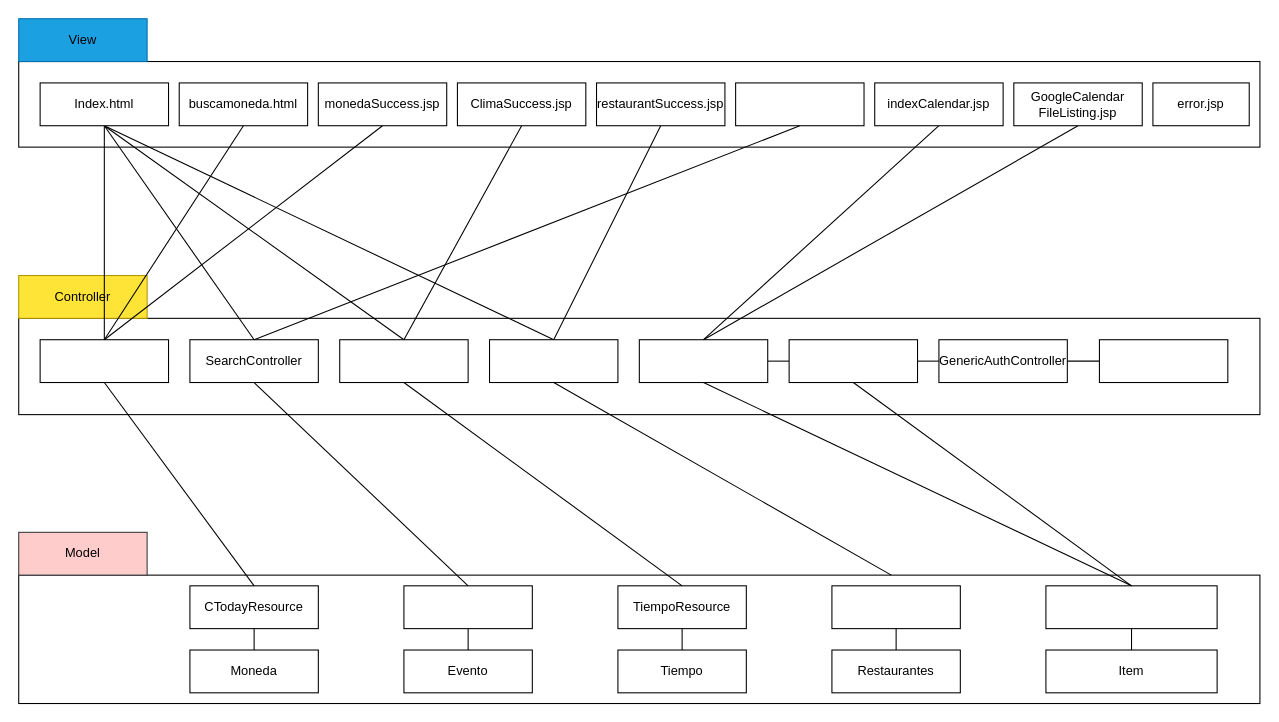
The diagram is 1279 pixels wide and 722 high, and some of its shapes have lost their labels. The box of each missing label's shape, as (x1, y1, x2, y2) in pixels:
EventSuccess.jsp: (735, 82, 864, 126)
GoogelCalendarResource: (1045, 585, 1217, 629)
GoogleCalendar EventNewController: (788, 339, 918, 383)
GoogleCalendat FileListController: (638, 339, 768, 383)
MonedaController: (39, 339, 169, 383)
Oauth2Callback: (1098, 339, 1228, 383)
TicketResource: (403, 585, 532, 629)
TiempoController: (339, 339, 468, 383)
TriposoController: (488, 339, 618, 383)
TriposoResource: (831, 585, 960, 629)
